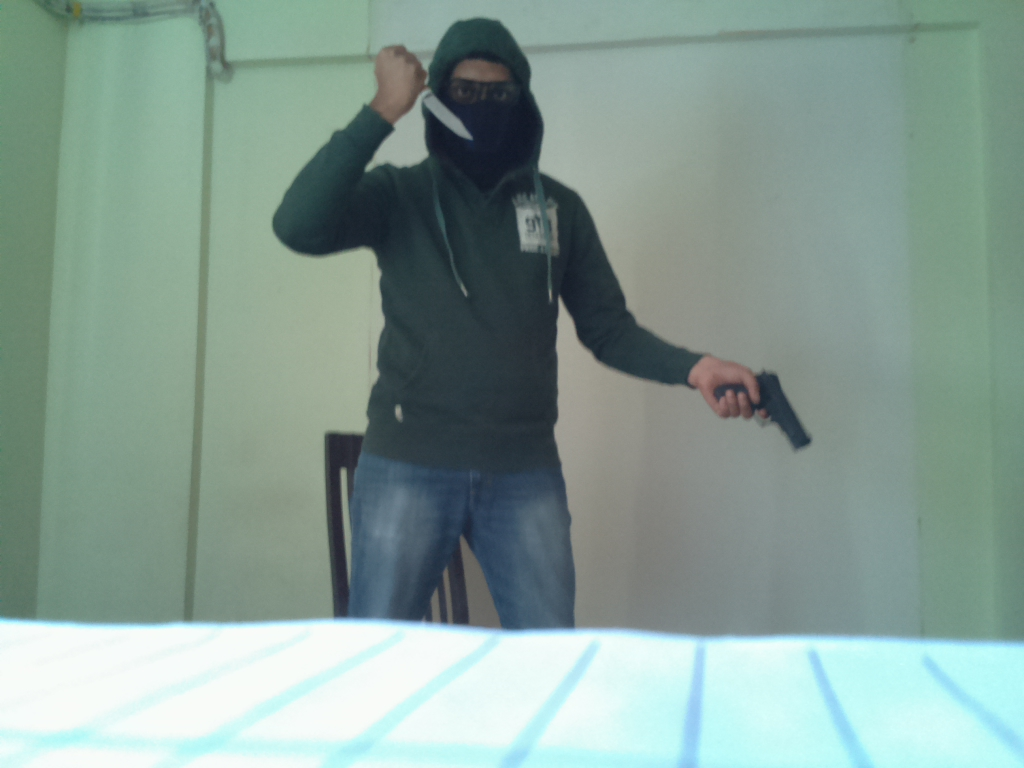gun: (707, 368, 815, 459)
knife: (401, 68, 477, 146)
